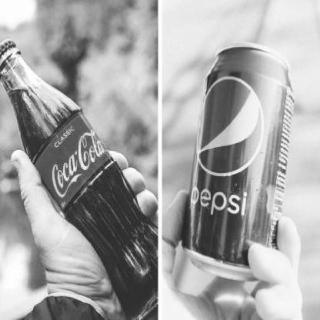alumunium_can: (180, 41, 294, 283)
objects: (0, 34, 160, 320)
